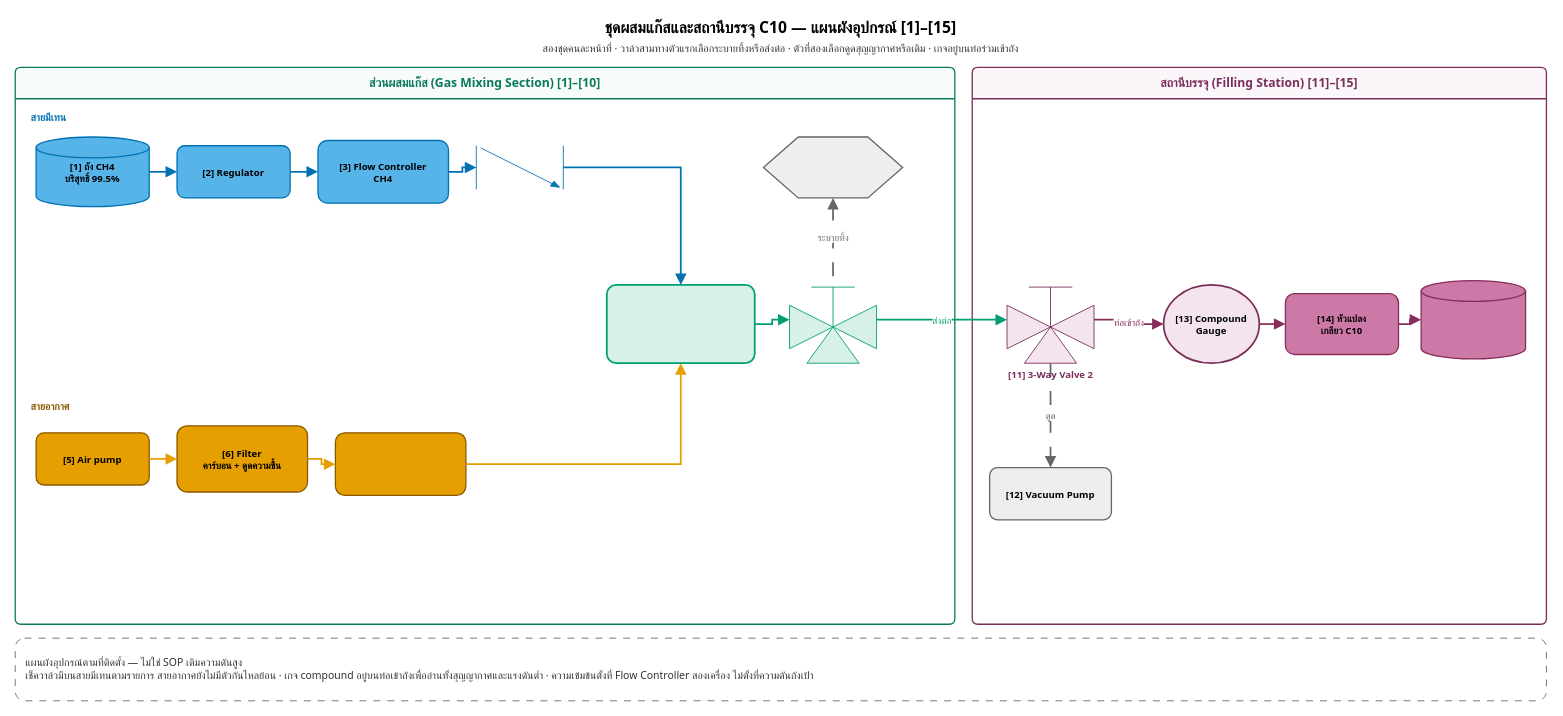
The diagram is 1563 pixels wide and 716 high, and some of its shapes have lost their labels. Each missing label, with the box of its shape:
[10] Exhaust / Vent: (762, 136, 903, 198)
[15] ถังเป้า C10: (1420, 280, 1526, 359)
[4] Check Valve: (475, 145, 563, 189)
[7] Flow Controller Air: (334, 432, 466, 496)
[8] T-Joint / Mixing Chamber: (606, 284, 755, 364)
[9] 3-Way Valve 1: (789, 275, 877, 363)
